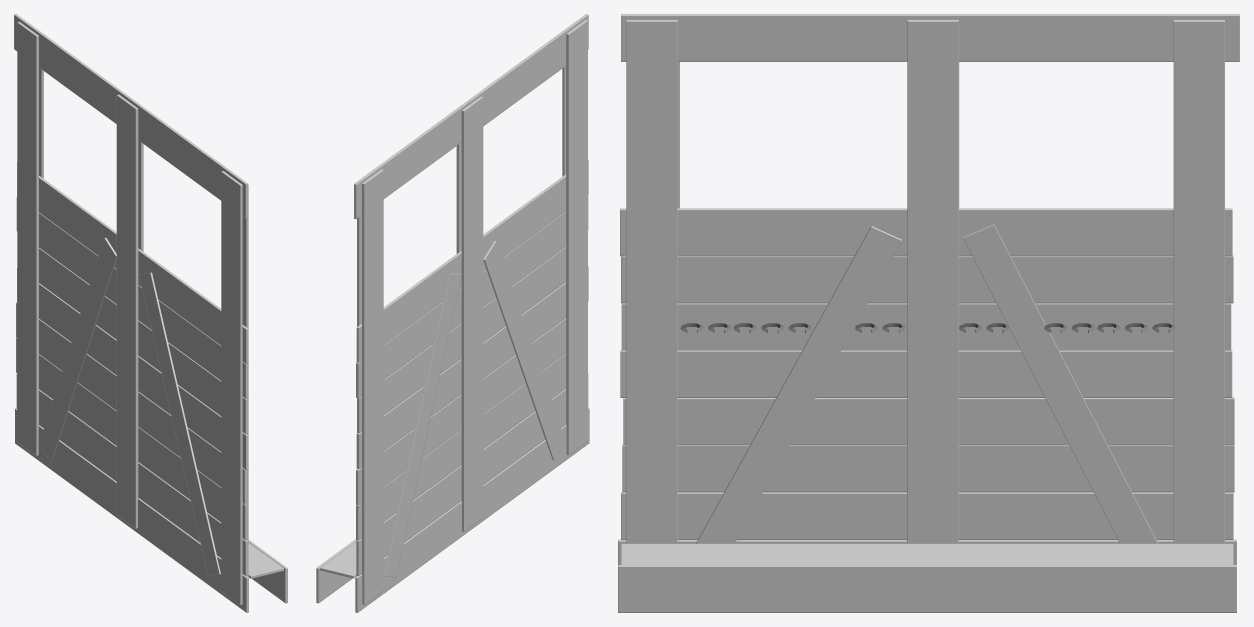
Rendered from weapon_stand1.fbx.
The picture shows the model from 3 angles, left to right: view 1: azimuth 30°, elevation 25°; view 2: azimuth 150°, elevation 25°; view 3: azimuth 270°, elevation 25°; orthographic projection. The views are drawn at different scales.
Parts seen in each view (by area): view 1: weapon_stand1_LOD0; view 2: weapon_stand1_LOD0; view 3: weapon_stand1_LOD0.
Part boxes in pixels (left/top/right/bottom): weapon_stand1_LOD0: left=14, top=14, right=287, bottom=612; weapon_stand1_LOD0: left=316, top=14, right=589, bottom=612; weapon_stand1_LOD0: left=618, top=14, right=1239, bottom=612.
Size of what is drawn, in the model's own units: 0.2367 by 2.22 by 2.19.
